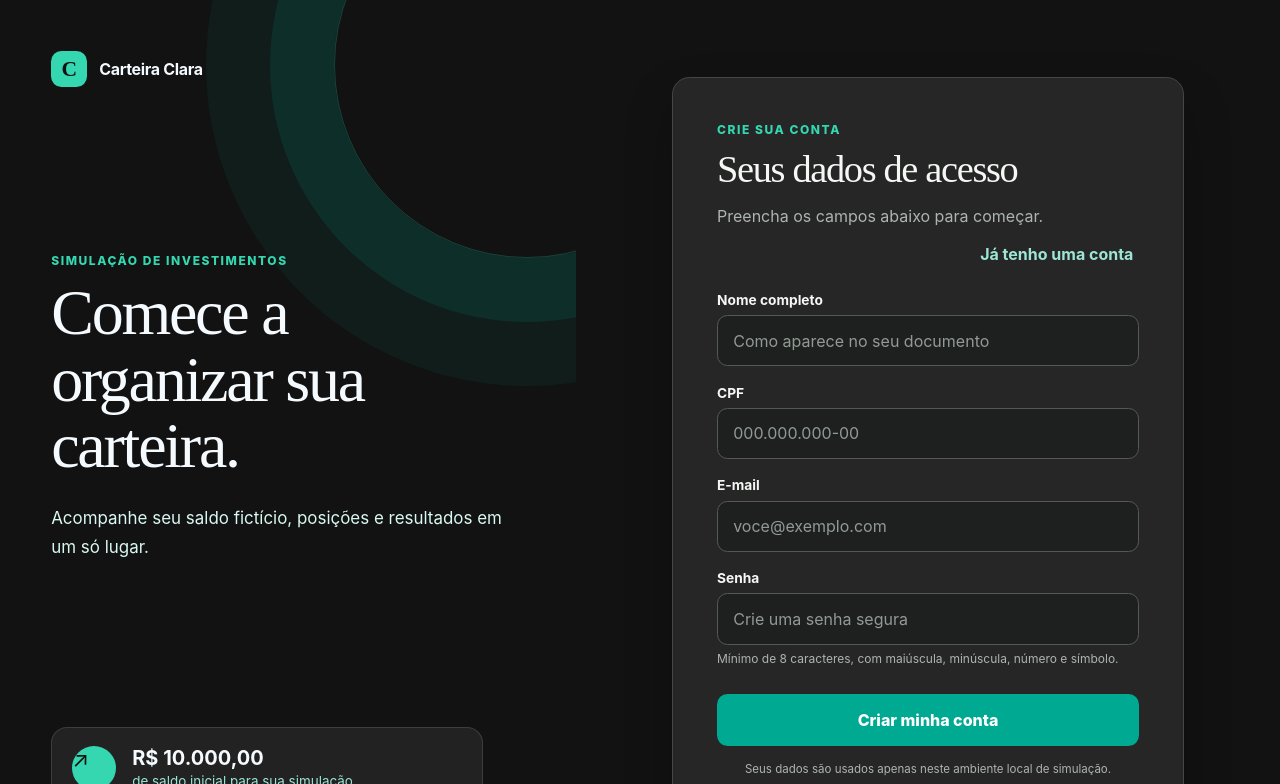
Test: Cadastro › mostra múltiplos erros nos campos e permite corrigi-los
The width and height of the screenshot is (1280, 784).
Type "Ana Silva" into the field labelled "Nome completo".
click(928, 341); type("Ana Silva")  # box [717, 315, 1139, 366]
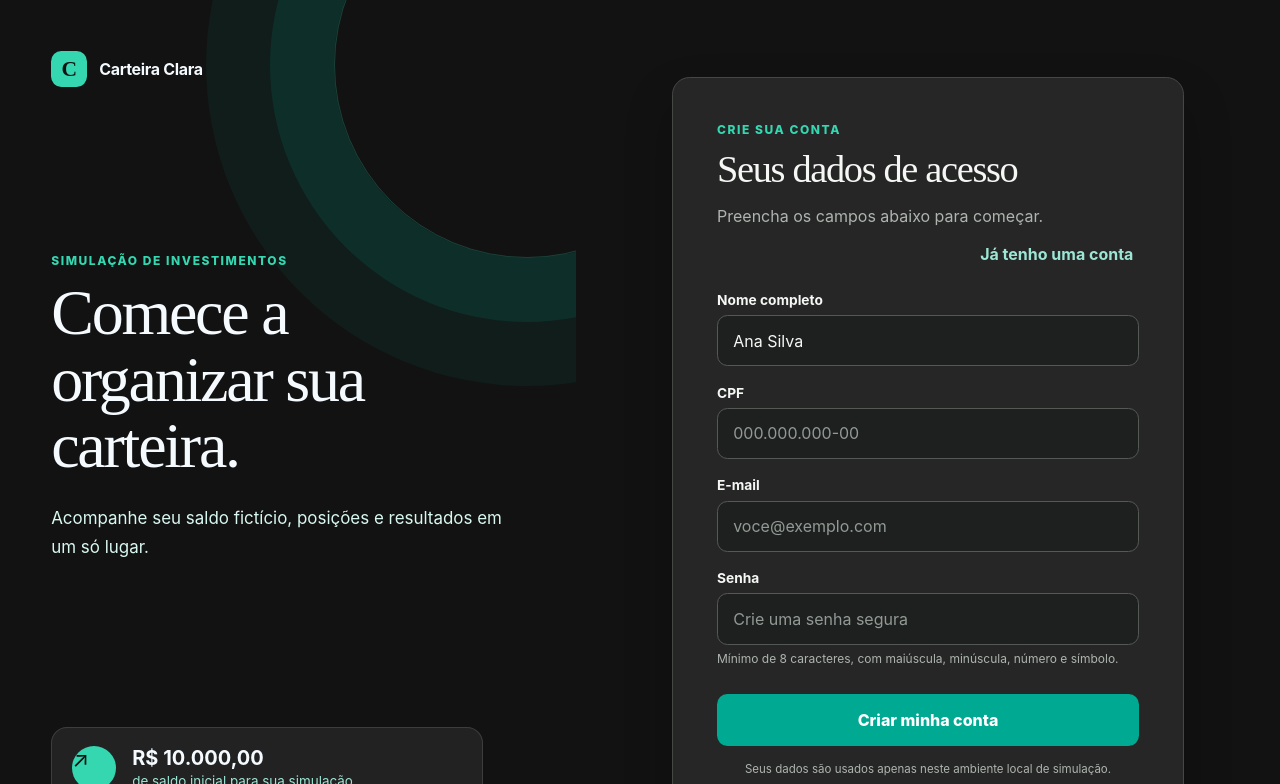
Type "52998224725" into the field labelled "CPF".
click(928, 434); type("52998224725")  # box [717, 408, 1139, 459]
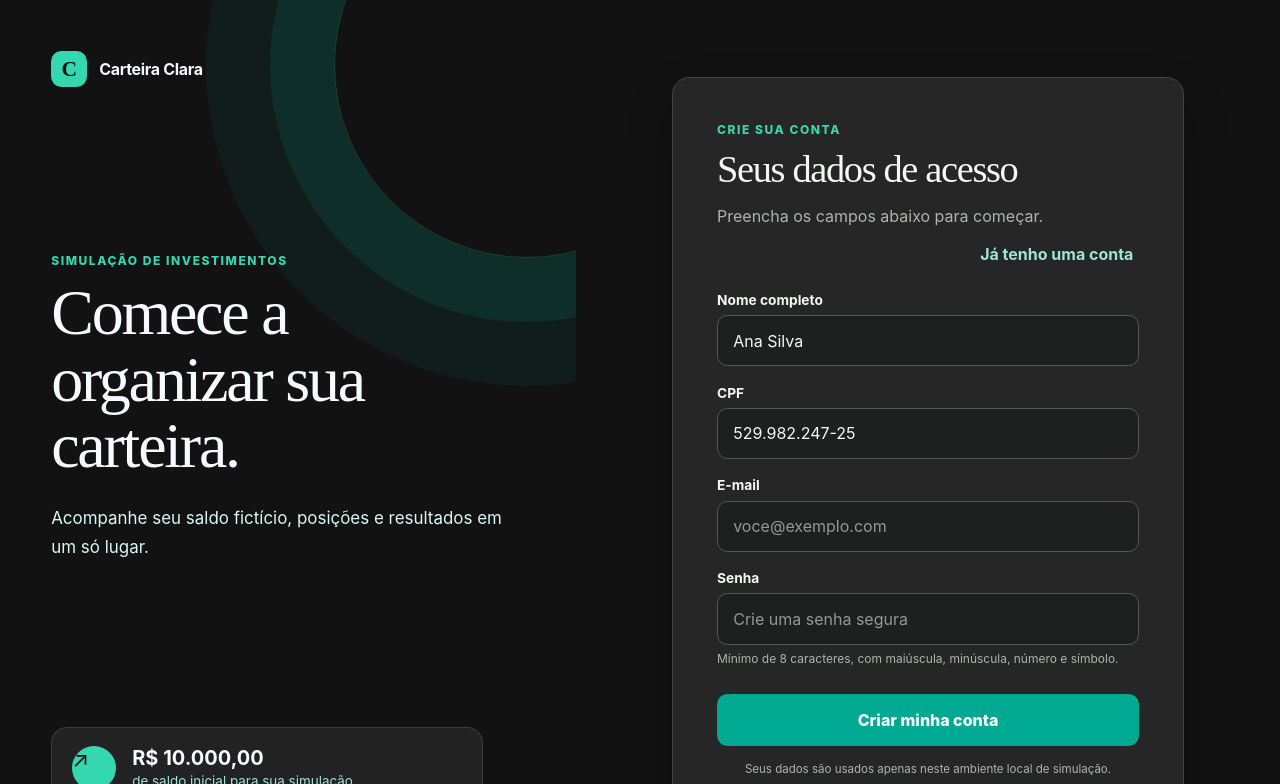
Type "ana@example.com" into the field labelled "E-mail".
click(928, 526); type("ana@example.com")  # box [717, 501, 1139, 552]
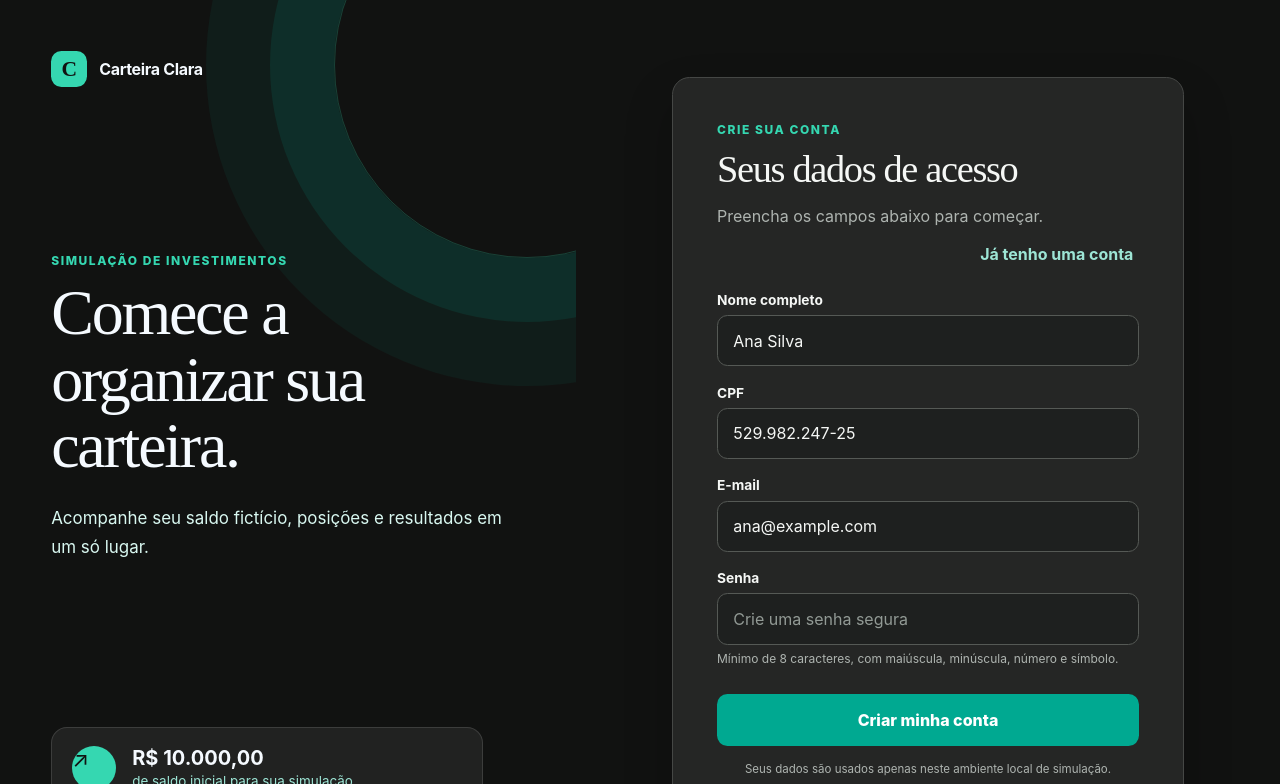
Type "Senha@123" into the password field labelled "Senha".
click(928, 619); type("Senha@123")  # box [717, 593, 1139, 645]
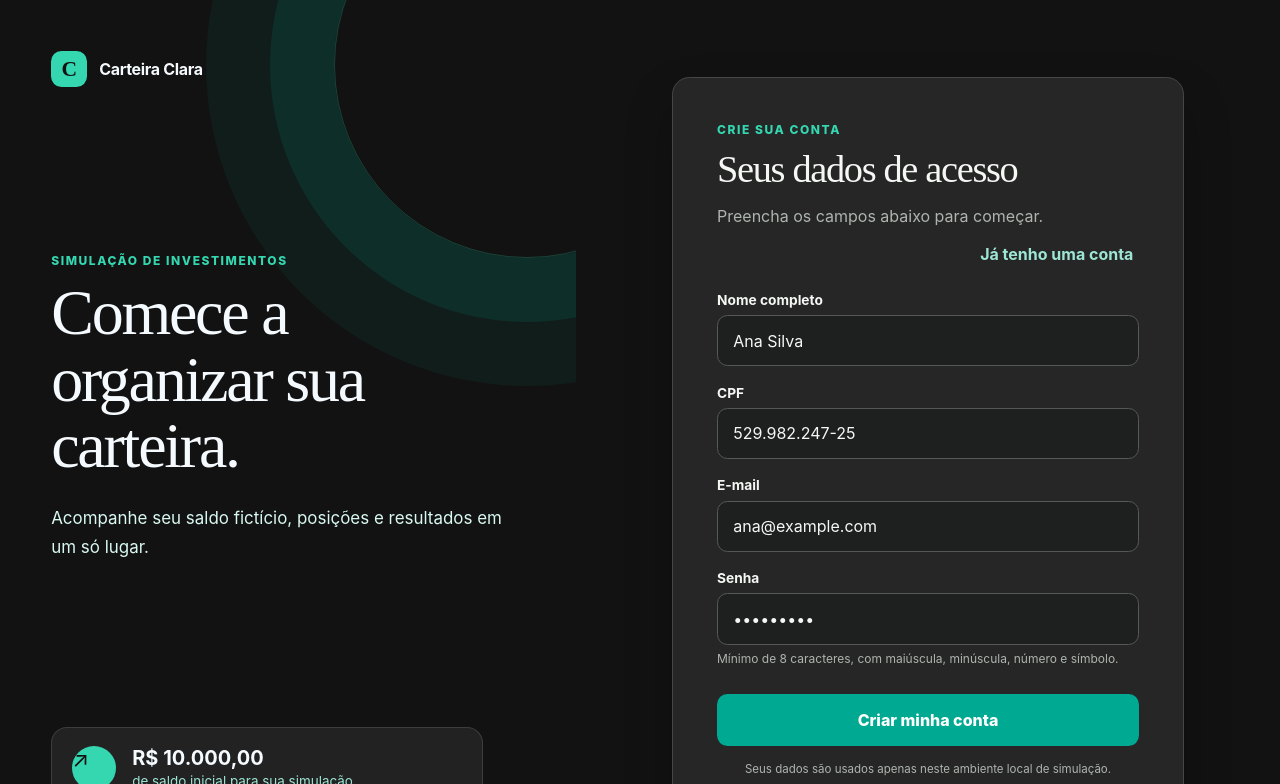
Click the button "Criar minha conta".
click(928, 720)  # box [717, 694, 1139, 746]
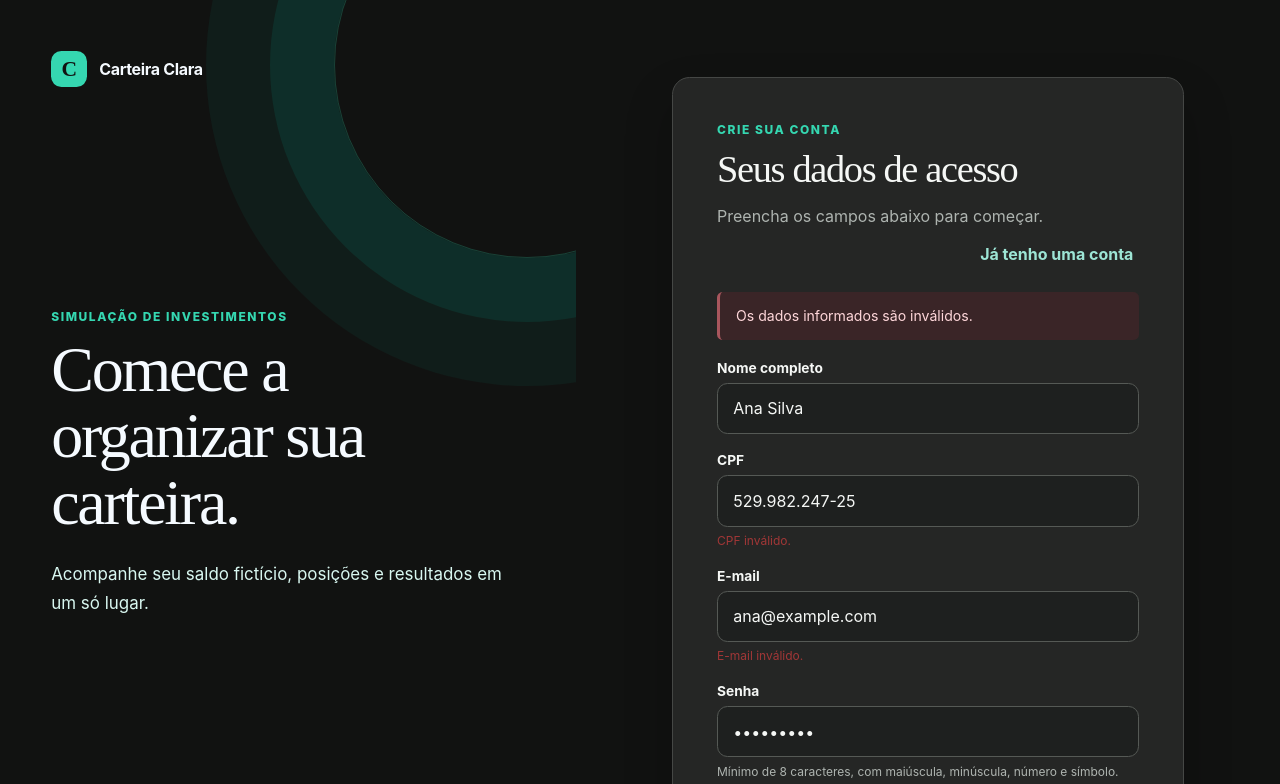
expect the message reads "Os dados informados são inválidos.": met, box [736, 306, 973, 324]
expect the text "CPF inválido." is shown: met, box [717, 533, 791, 548]
expect the text "E-mail inválido." is shown: met, box [717, 648, 803, 663]
Replace the text in the field labelled "CPF" with "123" at {"x": 928, "y": 501}, box [717, 476, 1139, 527]
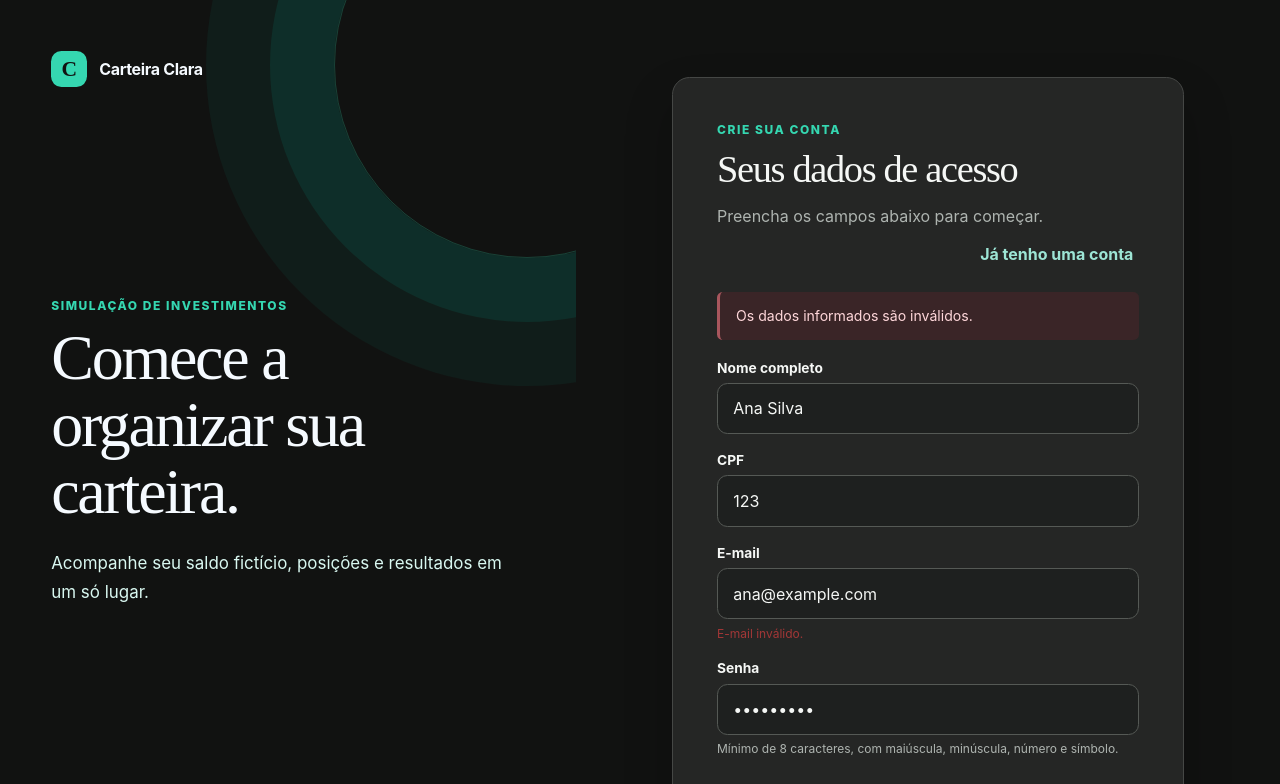
expect the text "CPF inválido." is gone: met
